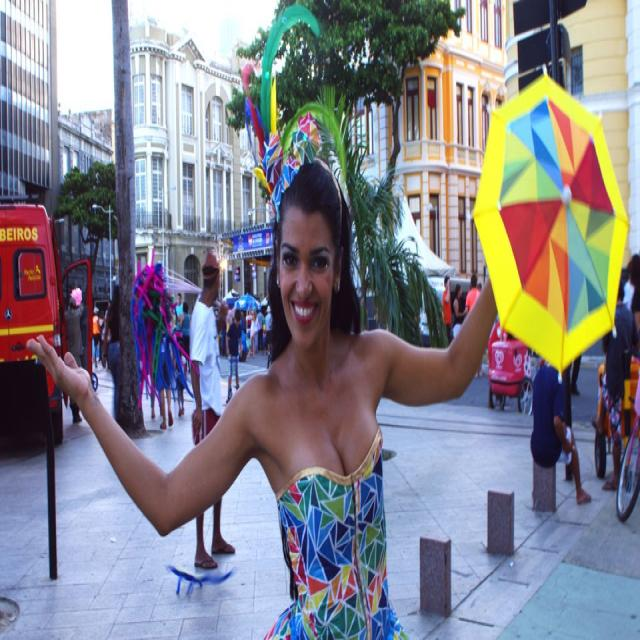body: (22, 2, 632, 638), (185, 244, 237, 576), (590, 280, 640, 496), (528, 362, 592, 507), (149, 288, 176, 429), (215, 300, 261, 368), (63, 294, 86, 425), (99, 300, 127, 371), (625, 246, 639, 380), (225, 307, 242, 406), (562, 332, 584, 401), (175, 340, 188, 418), (452, 282, 469, 341), (178, 300, 191, 375), (441, 273, 454, 344), (463, 273, 482, 316), (92, 306, 102, 369), (265, 303, 274, 357), (255, 306, 264, 351), (174, 291, 184, 330), (475, 273, 485, 297)
